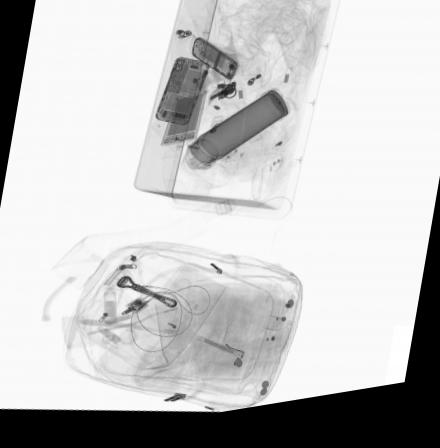Powerbank: (160, 94, 208, 148)
